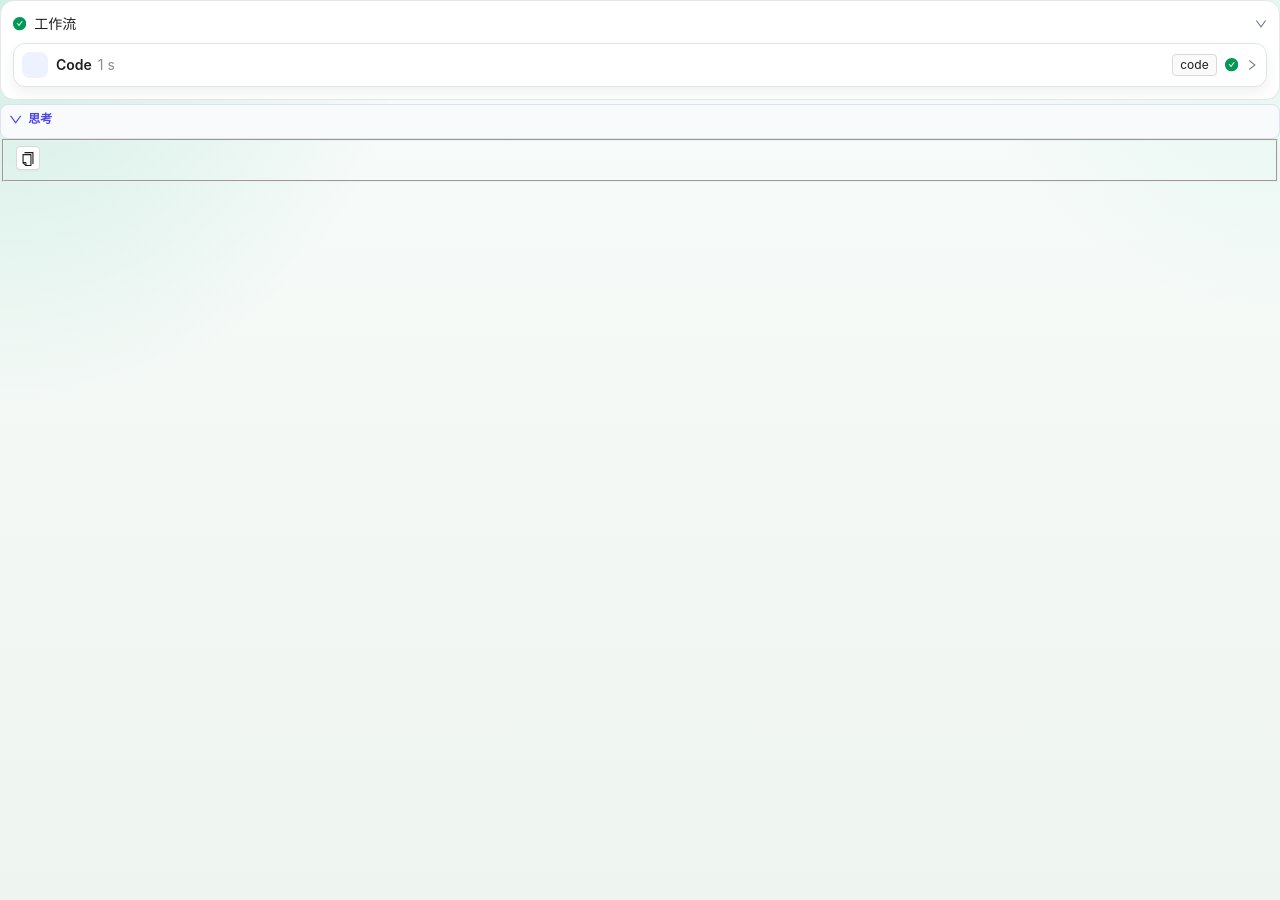
DebugAssistantMessage › always renders data processing for trace items when debug payload is empty
Click the button "Code 1 s code". click: [74, 64]
box: x1=14 y1=44 x2=1266 y2=86
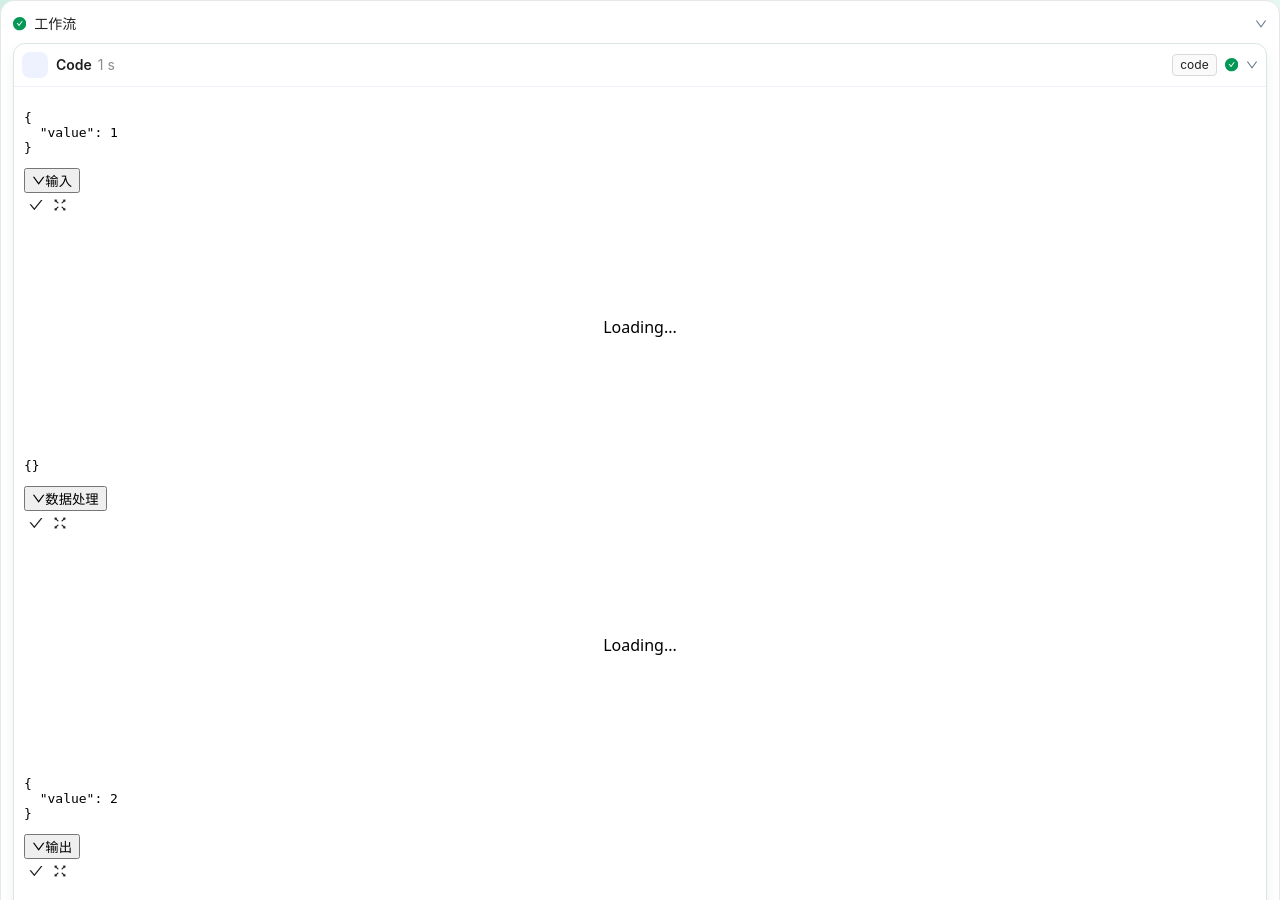
Expected: the text named "数据处理 JSON" reads "{}", x1=24 y1=458 x2=40 y2=473
